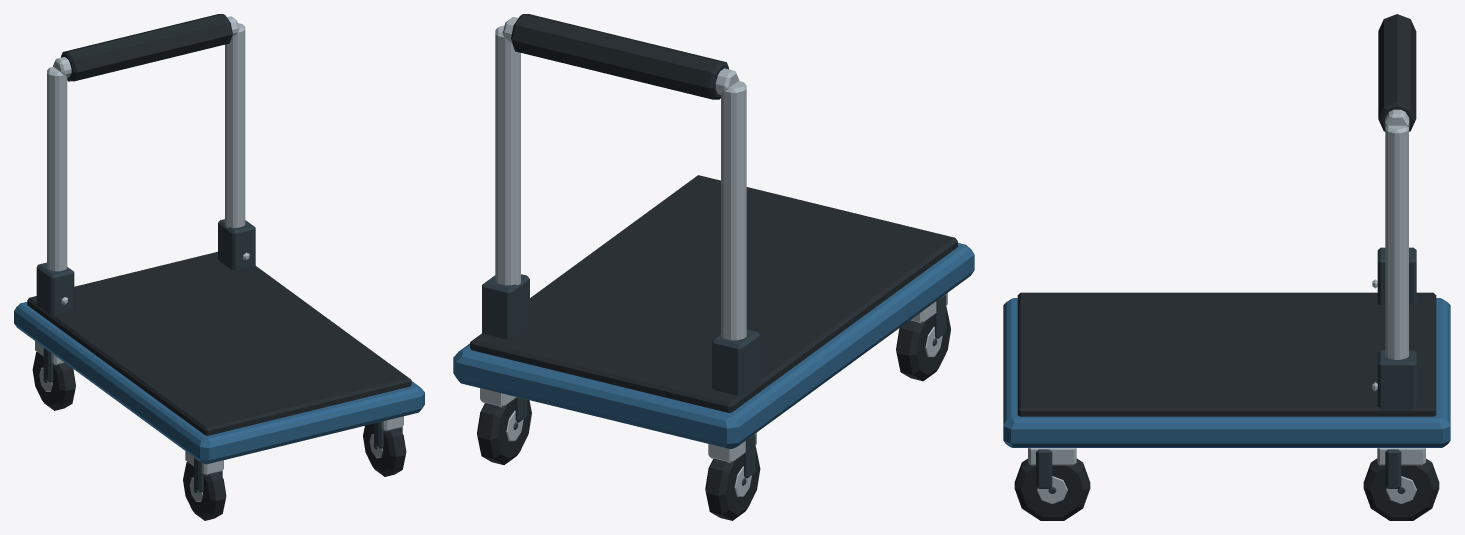
The model's file is b14_folding_platform_delivery_cart.glb.
The picture shows the model from 3 angles, left to right: view 1: azimuth 30°, elevation 25°; view 2: azimuth 150°, elevation 25°; view 3: azimuth 270°, elevation 25°; orthographic projection. The views are drawn at different scales.
Parts seen in each view (by area): view 1: b14_folding_platform_delivery_cart; view 2: b14_folding_platform_delivery_cart; view 3: b14_folding_platform_delivery_cart.
Part boxes in pixels (x1,y1,x2,y2): b14_folding_platform_delivery_cart: (14, 14, 424, 520); b14_folding_platform_delivery_cart: (453, 14, 974, 520); b14_folding_platform_delivery_cart: (1003, 14, 1450, 520).
Size of the model in its own units: 0.62 by 0.9282 by 0.92.
